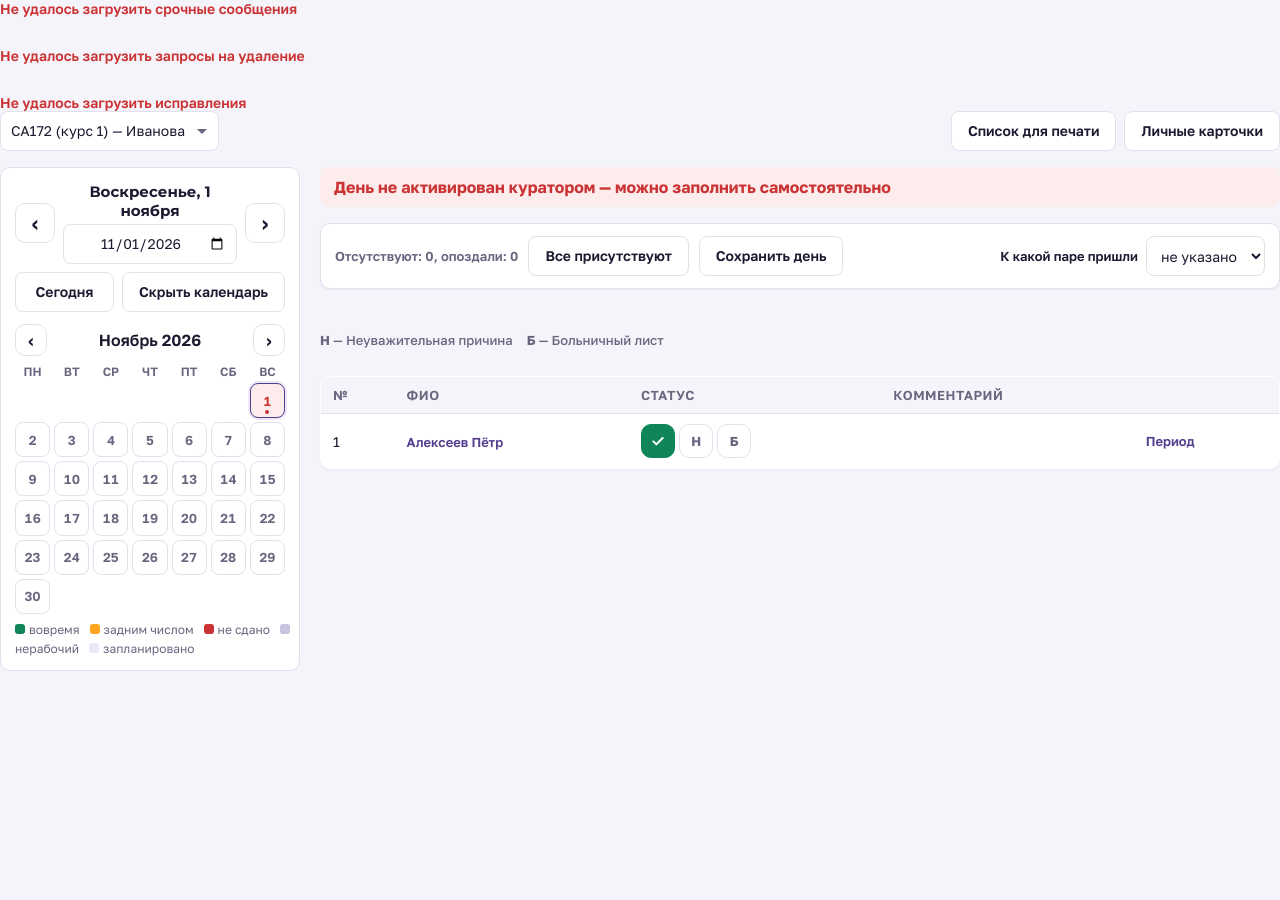
Scenario: GroupJournalTab — окно «Период» (длительное отсутствие) › предлагает только уважительные коды и сохраняет период, после чего перечитывает день
The image size is (1280, 900).
Expected: the link "Алексеев Пётр" is shown, [403, 432, 507, 452]
Click the button "Период" at coordinates (1170, 441), box [1142, 431, 1199, 451]
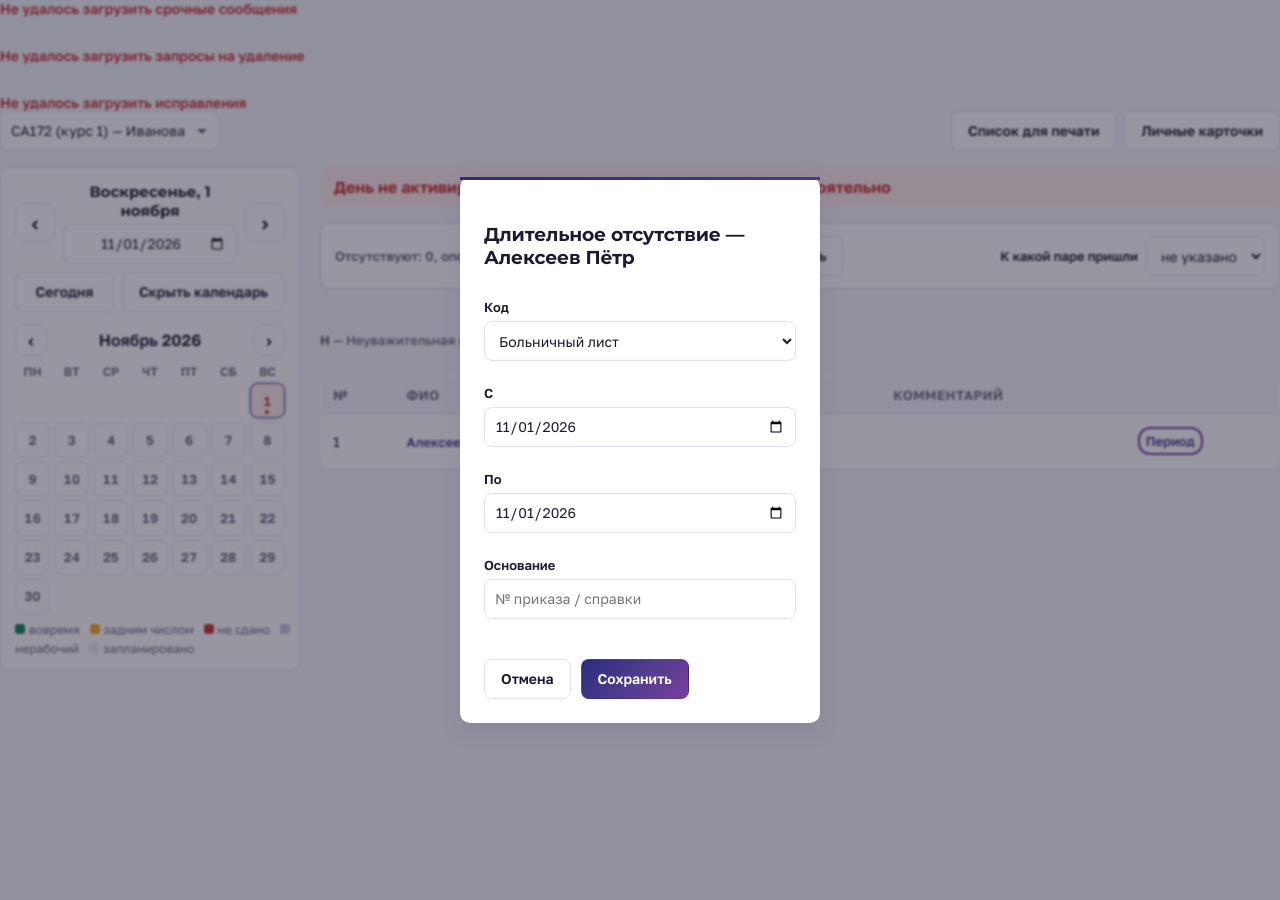
Result: the heading "Длительное отсутствие — Алексеев Пётр" is shown at [484, 222, 744, 268]
Type "приказ 12" into the field with placeholder "№ приказа / справки" at coordinates (640, 599), box [484, 579, 796, 619]
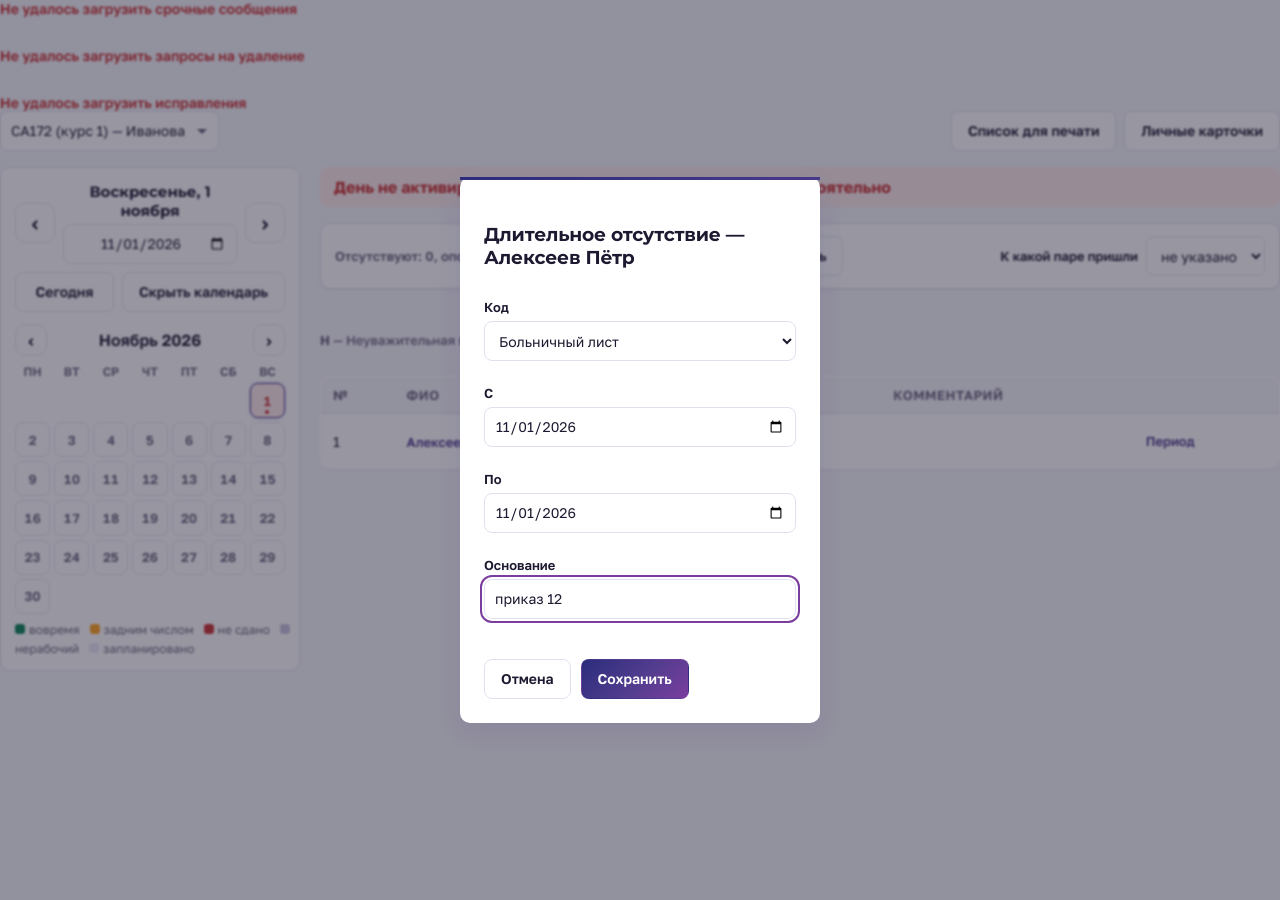
Click the button "Сохранить" at coordinates (635, 679), box [580, 659, 689, 699]
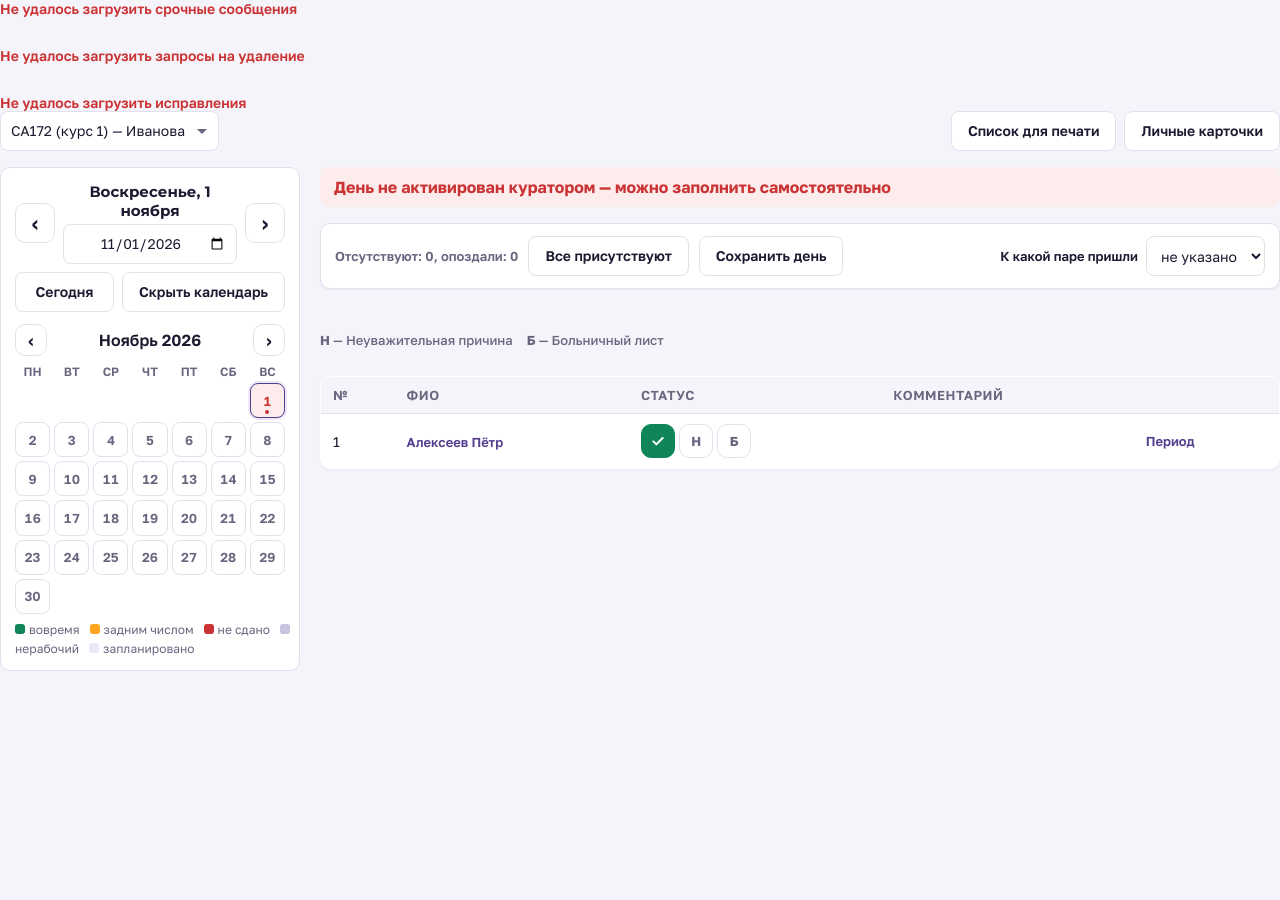
Result: the dialog is gone
